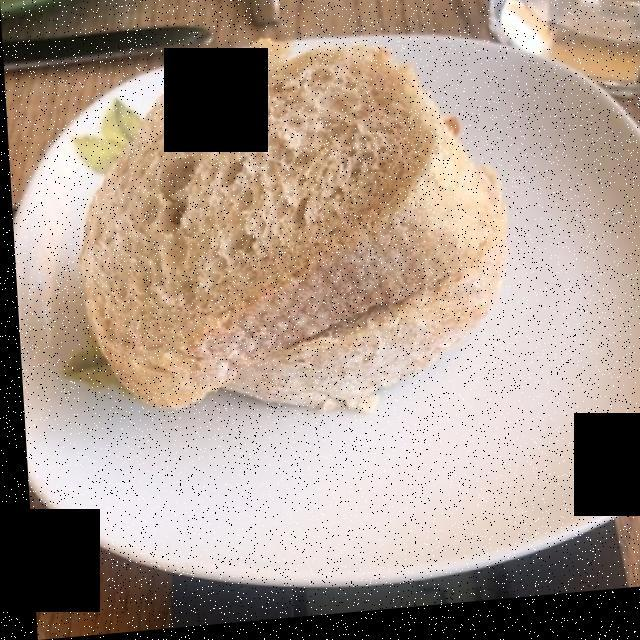bread: (79, 48, 494, 409)
